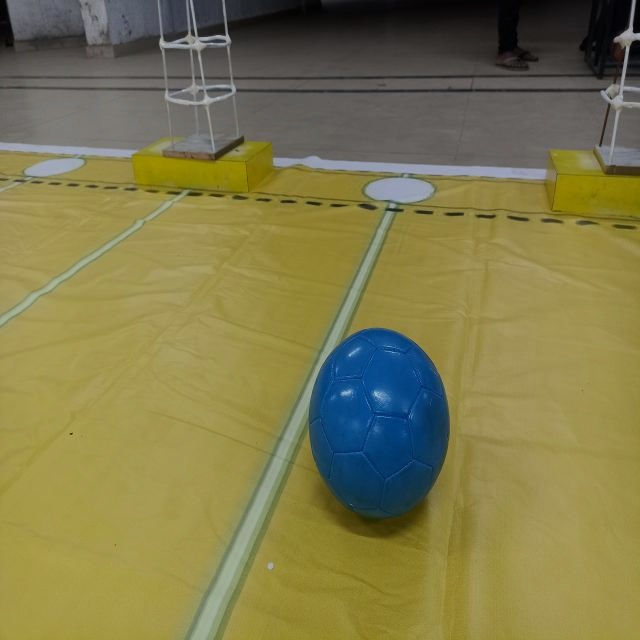blue_ball: (306, 321, 456, 530)
